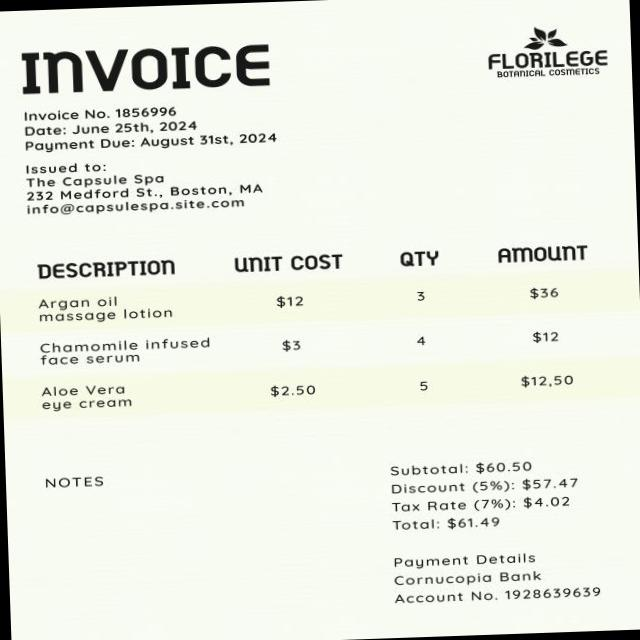customer_address: (24, 180, 270, 203)
customer_name: (22, 168, 169, 190)
due_date: (140, 128, 282, 150)
invoice_date: (68, 118, 207, 136)
invoice_number: (111, 100, 184, 120)
invoice_subtotal: (471, 452, 540, 474)
invoice_total: (441, 511, 506, 532)
item_description: (28, 288, 224, 422)
item_quantity: (404, 281, 438, 404)
item_unit_price: (506, 275, 580, 398), (256, 284, 322, 411)
supplier_name: (475, 43, 617, 85)
tax_amount: (518, 492, 577, 511)
tax_rate: (480, 494, 503, 514)
